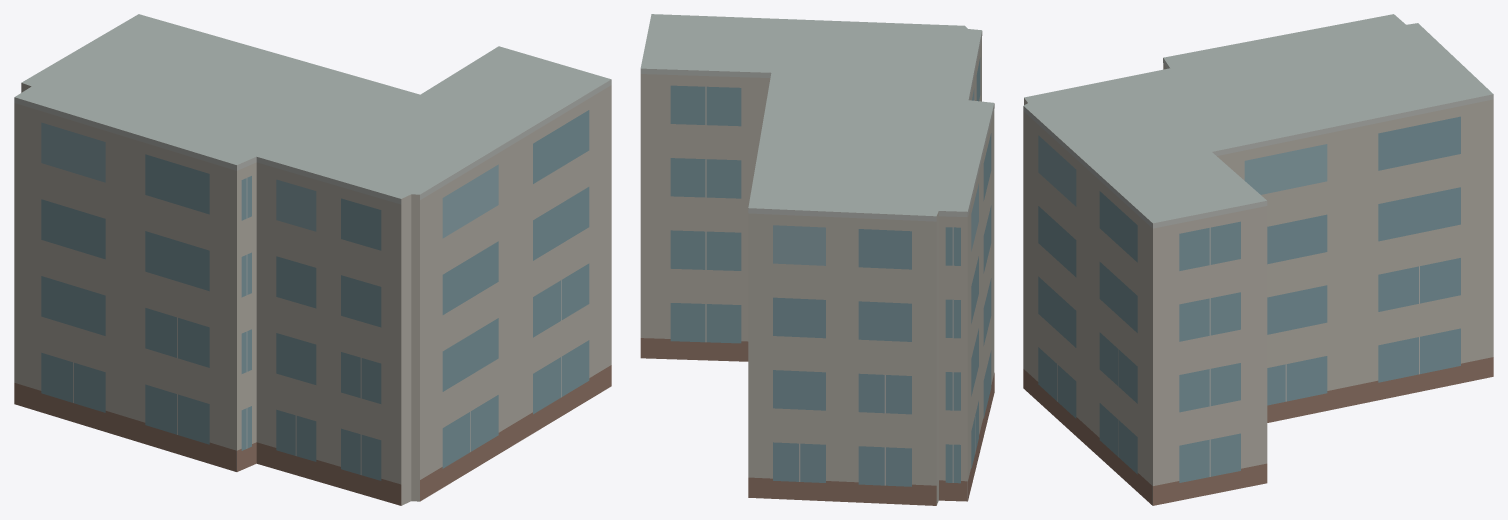
The model's file is survey-upis-32640826.glb.
3 views of the same model, side by side, from view 1: azimuth 30°, elevation 25°; view 2: azimuth 150°, elevation 25°; view 3: azimuth 270°, elevation 25° (orthographic). The views are drawn at different scales.
Parts seen in each view (by area): view 1: survey-upis-32640826.tmp; view 2: survey-upis-32640826.tmp; view 3: survey-upis-32640826.tmp.
Boxes of the visible parts, box(x1,y1,x2,y2) form: survey-upis-32640826.tmp: box(14, 14, 611, 505); survey-upis-32640826.tmp: box(640, 14, 994, 505); survey-upis-32640826.tmp: box(1023, 14, 1493, 505).
Size of the model in its own units: 20.99 by 13.2 by 19.92.
